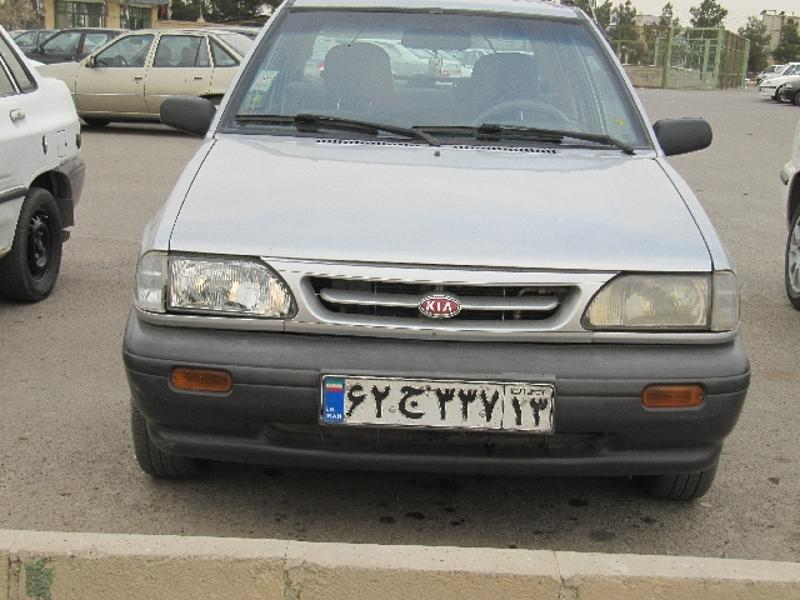Plate: (313, 376, 567, 432)
